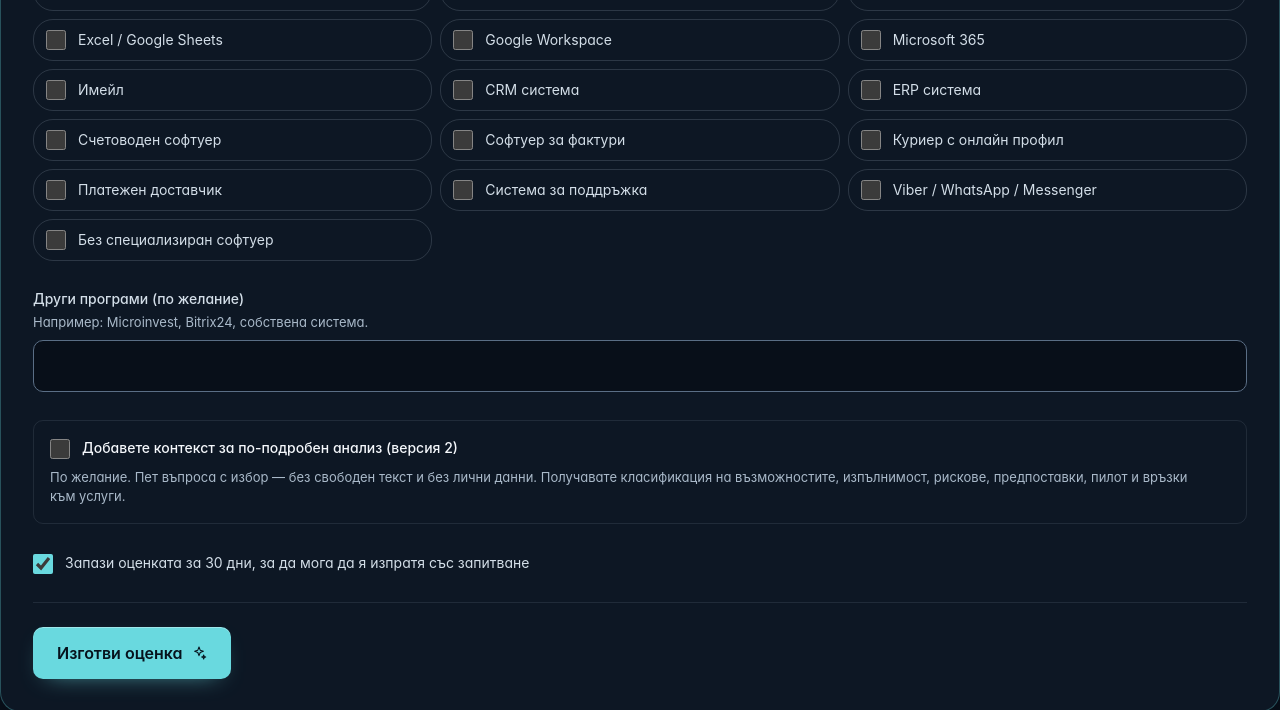
Test: AdvisorTool › shows errors and sends nothing when the form is incomplete
(page scrolled)
Click the button "Изготви оценка". click: (132, 653)
box: [33,627,230,679]
(page scrolled)
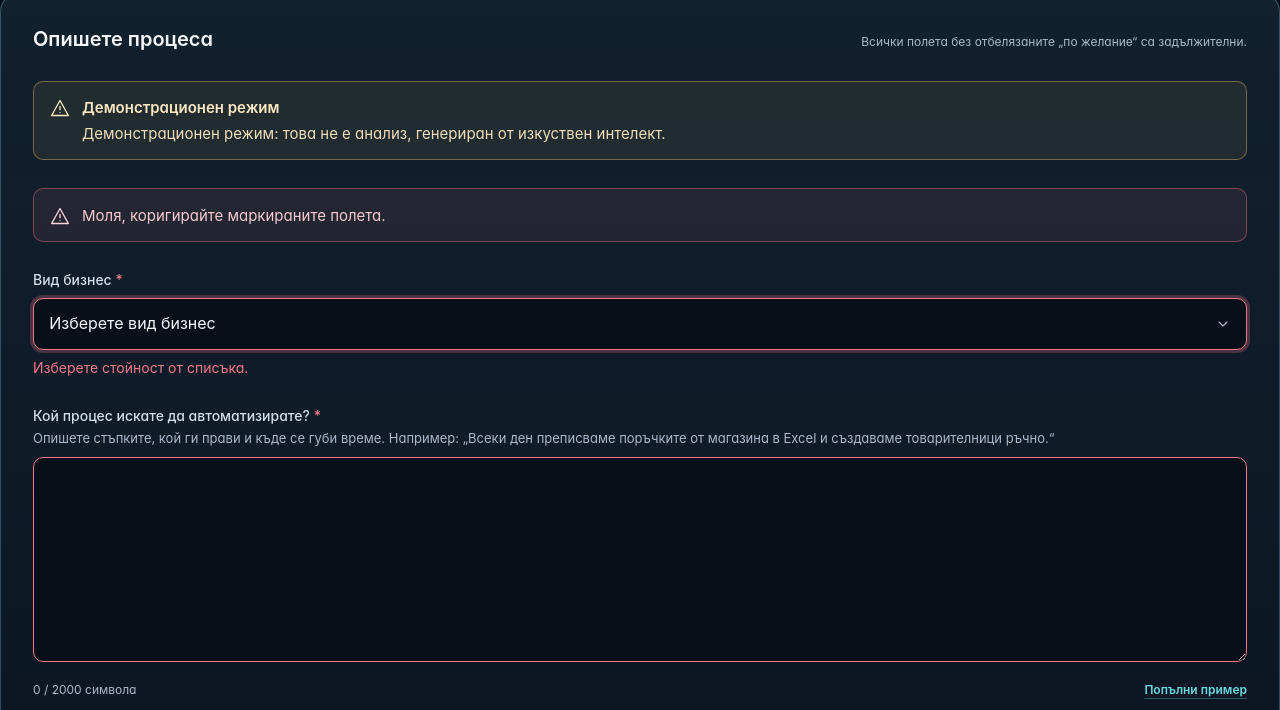
Expected: the message reads "Моля, коригирайте маркираните полета.", [82,206,386,225]
